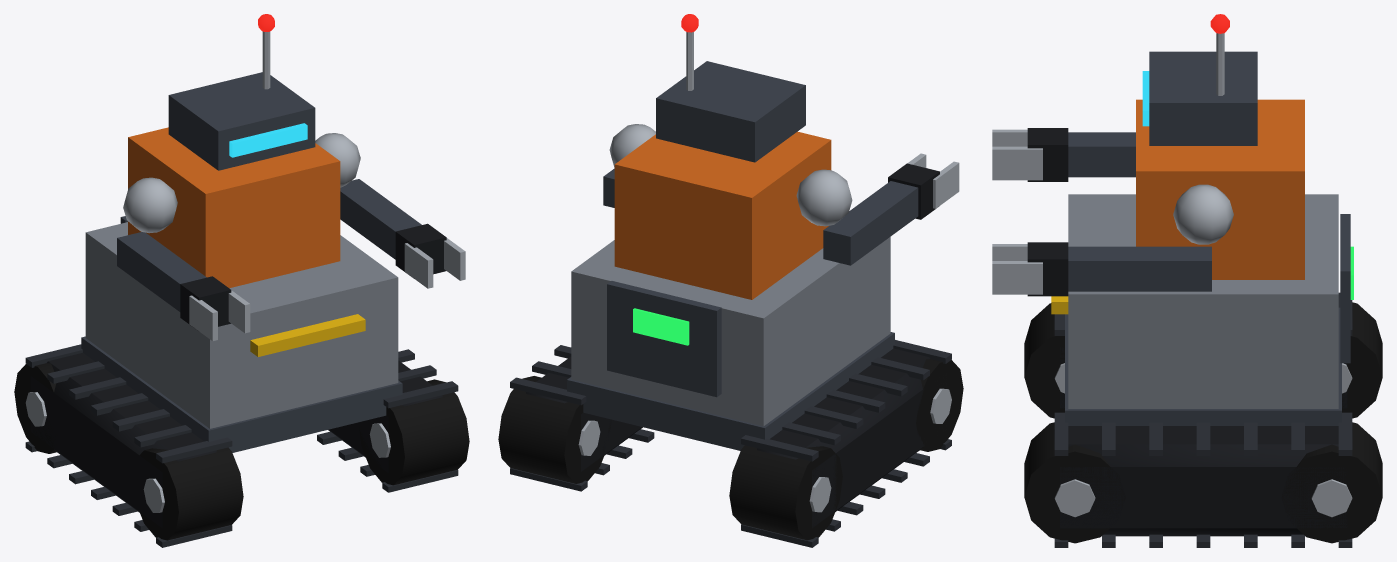
Rendered from loader_maintenance_robot_treads.glb.
3 views of the same model, side by side, from view 1: azimuth 30°, elevation 25°; view 2: azimuth 150°, elevation 25°; view 3: azimuth 270°, elevation 25° (orthographic). The views are drawn at different scales.
Parts seen in each view (by area): view 1: loader_maintenance_robot_treads; view 2: loader_maintenance_robot_treads; view 3: loader_maintenance_robot_treads.
Part boxes in pixels (box(x1,y1,x2,y2)): loader_maintenance_robot_treads: box(14, 14, 469, 547); loader_maintenance_robot_treads: box(498, 14, 963, 547); loader_maintenance_robot_treads: box(992, 14, 1382, 547).
Size of the model in its own units: 1.1 by 1.54 by 1.15.
